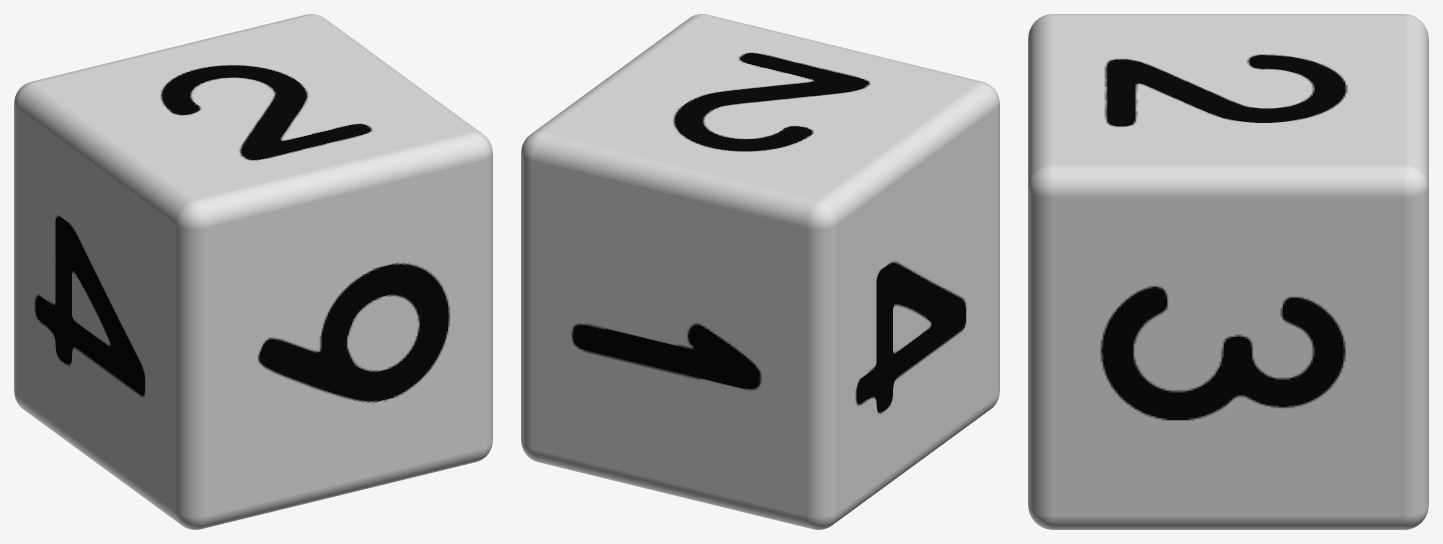
3 renders of one model, left to right at view 1: azimuth 30°, elevation 25°; view 2: azimuth 150°, elevation 25°; view 3: azimuth 270°, elevation 25°, orthographic. The views are drawn at different scales.
Visible parts, largest first — view 1: Regular D6; view 2: Regular D6; view 3: Regular D6.
Boxes of the visible parts, x1,y1,x2,y2 form: Regular D6: (14, 14, 492, 529); Regular D6: (521, 14, 999, 529); Regular D6: (1028, 14, 1428, 529).
Bounding box in the file's own units: 1 × 1 × 1.
1 material, 1 textured.
